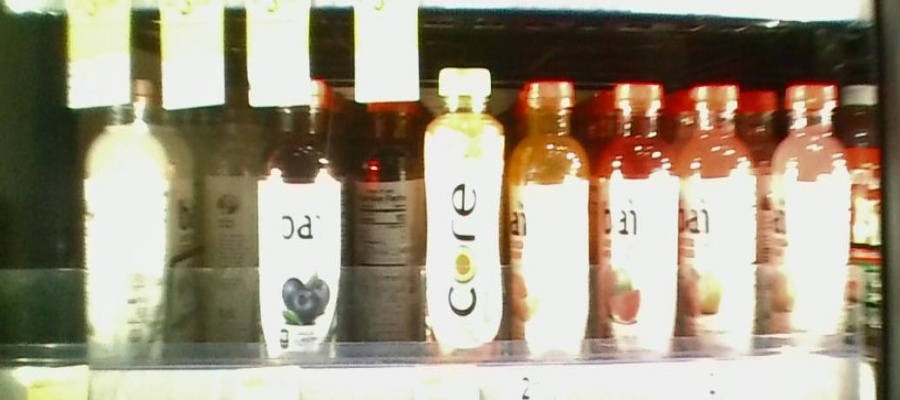bottle: (80, 82, 172, 361), (506, 75, 591, 359), (422, 63, 505, 353), (593, 79, 679, 358), (259, 72, 343, 357), (768, 68, 851, 352), (681, 67, 762, 357), (350, 82, 422, 342), (197, 93, 257, 343)
